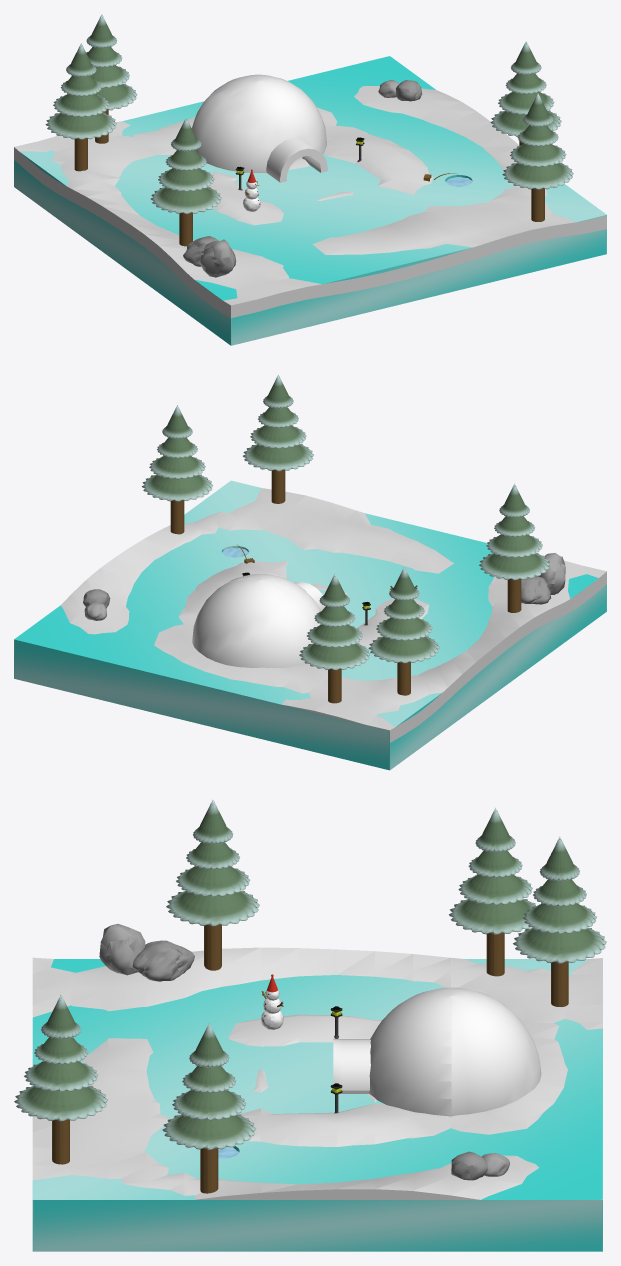
File: 3d_-_environment.glb
3 renders of one model, top to bottom at view 1: azimuth 30°, elevation 25°; view 2: azimuth 150°, elevation 25°; view 3: azimuth 270°, elevation 25°, orthographic. The views are drawn at different scales.
Parts seen in each view (by area): view 1: 3DSMeshMatrix (×27); view 2: 3DSMeshMatrix (×24); view 3: 3DSMeshMatrix (×30).
Boxes of the visible parts, <box> form: 3DSMeshMatrix (×27): <box>14,14,606,345</box>; 3DSMeshMatrix (×24): <box>14,374,606,770</box>; 3DSMeshMatrix (×30): <box>14,799,606,1251</box>.
Size of the model in its own units: 187 by 76.66 by 182.
Materials: 14 (3 with a texture image).
